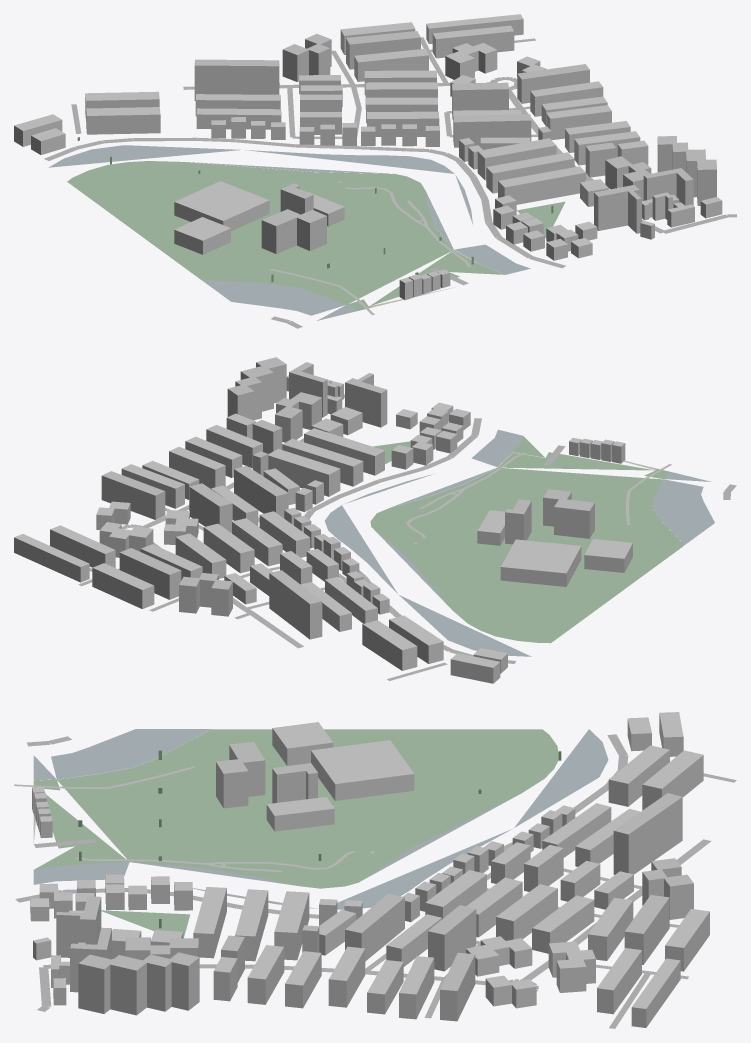
The picture shows the model from 3 angles, top to bottom: view 1: azimuth 30°, elevation 25°; view 2: azimuth 150°, elevation 25°; view 3: azimuth 270°, elevation 25°; orthographic projection. The views are drawn at different scales.
Bounding box in the file's own units: 533 × 38.15 × 543.
